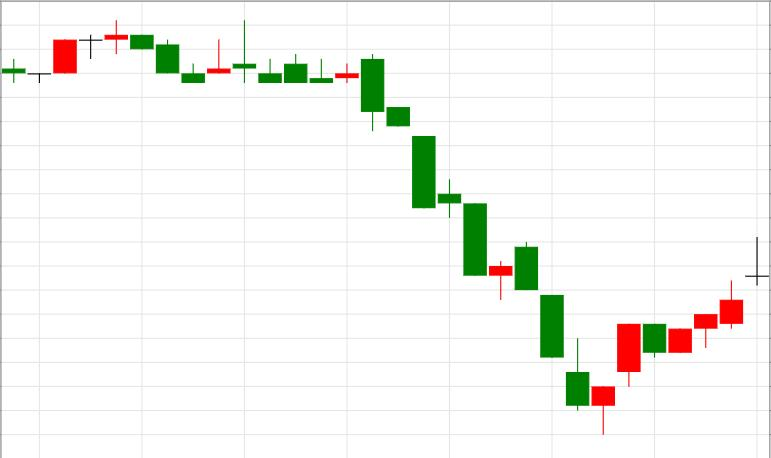inverse_hammer_rise: (361, 54, 589, 411)
